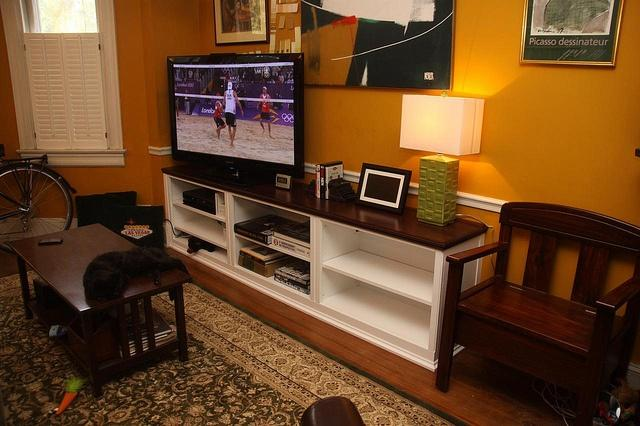AIO PC-Monitor-TV: (165, 51, 305, 182)
Kursi: (435, 198, 639, 425)
Meja: (5, 221, 191, 398)
Rak: (164, 171, 439, 363)
